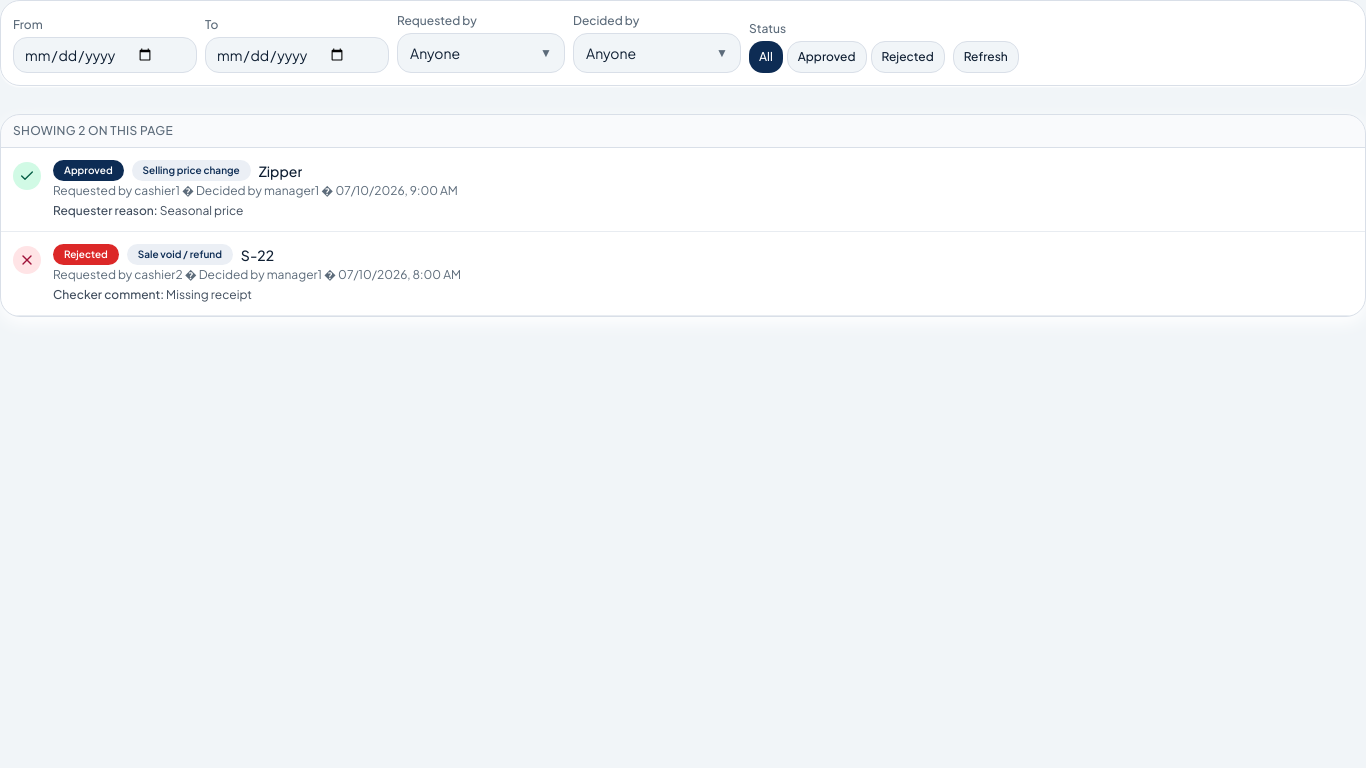
MyDecisionsTrail › opens detail dialog with requester reason and reject comment
Click the text "S-22" at (258, 254), box [241,244,274,264]
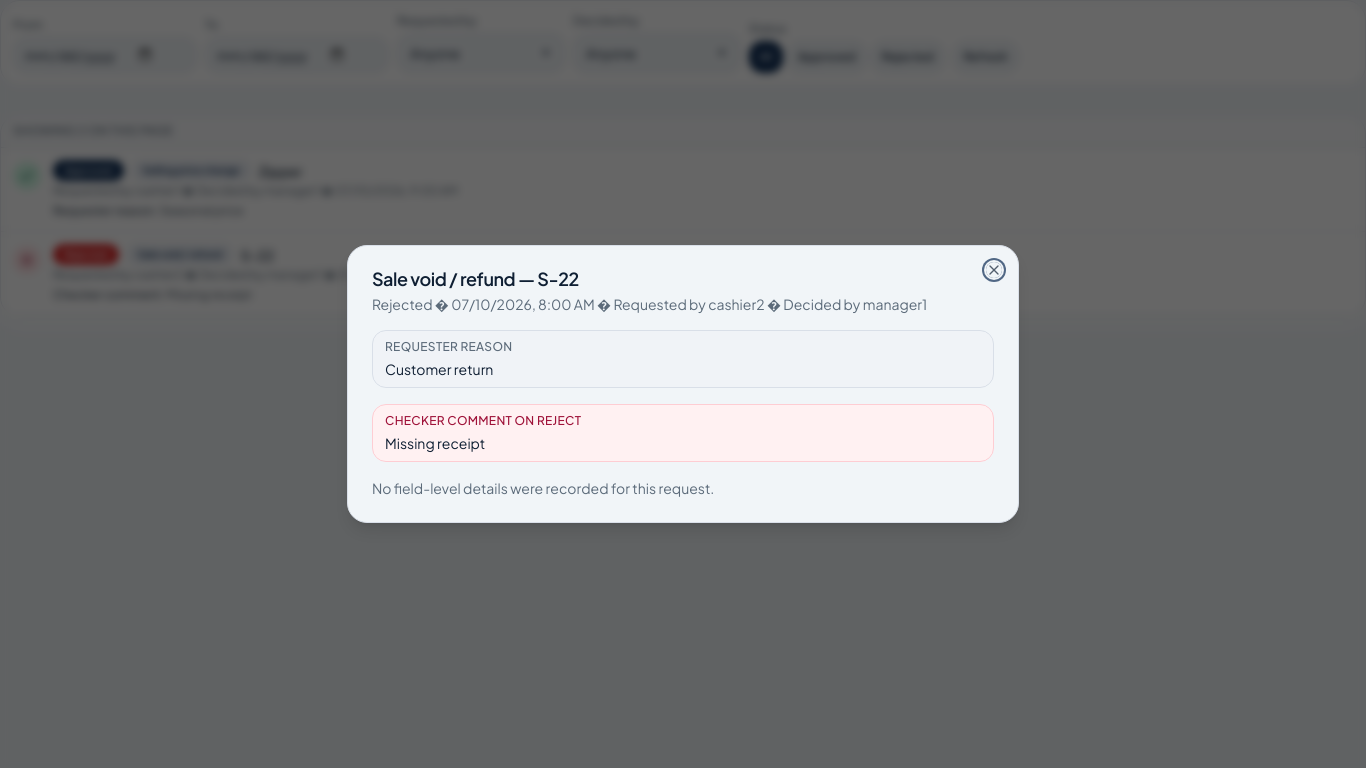
Now the text "Checker comment on reject" is shown, box [385,413,581,428]
Now the text "Customer return" is shown, box [385,360,493,378]
